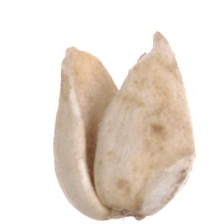L1: (62, 31, 164, 98), (95, 203, 150, 221)
L2: (53, 32, 195, 222)
